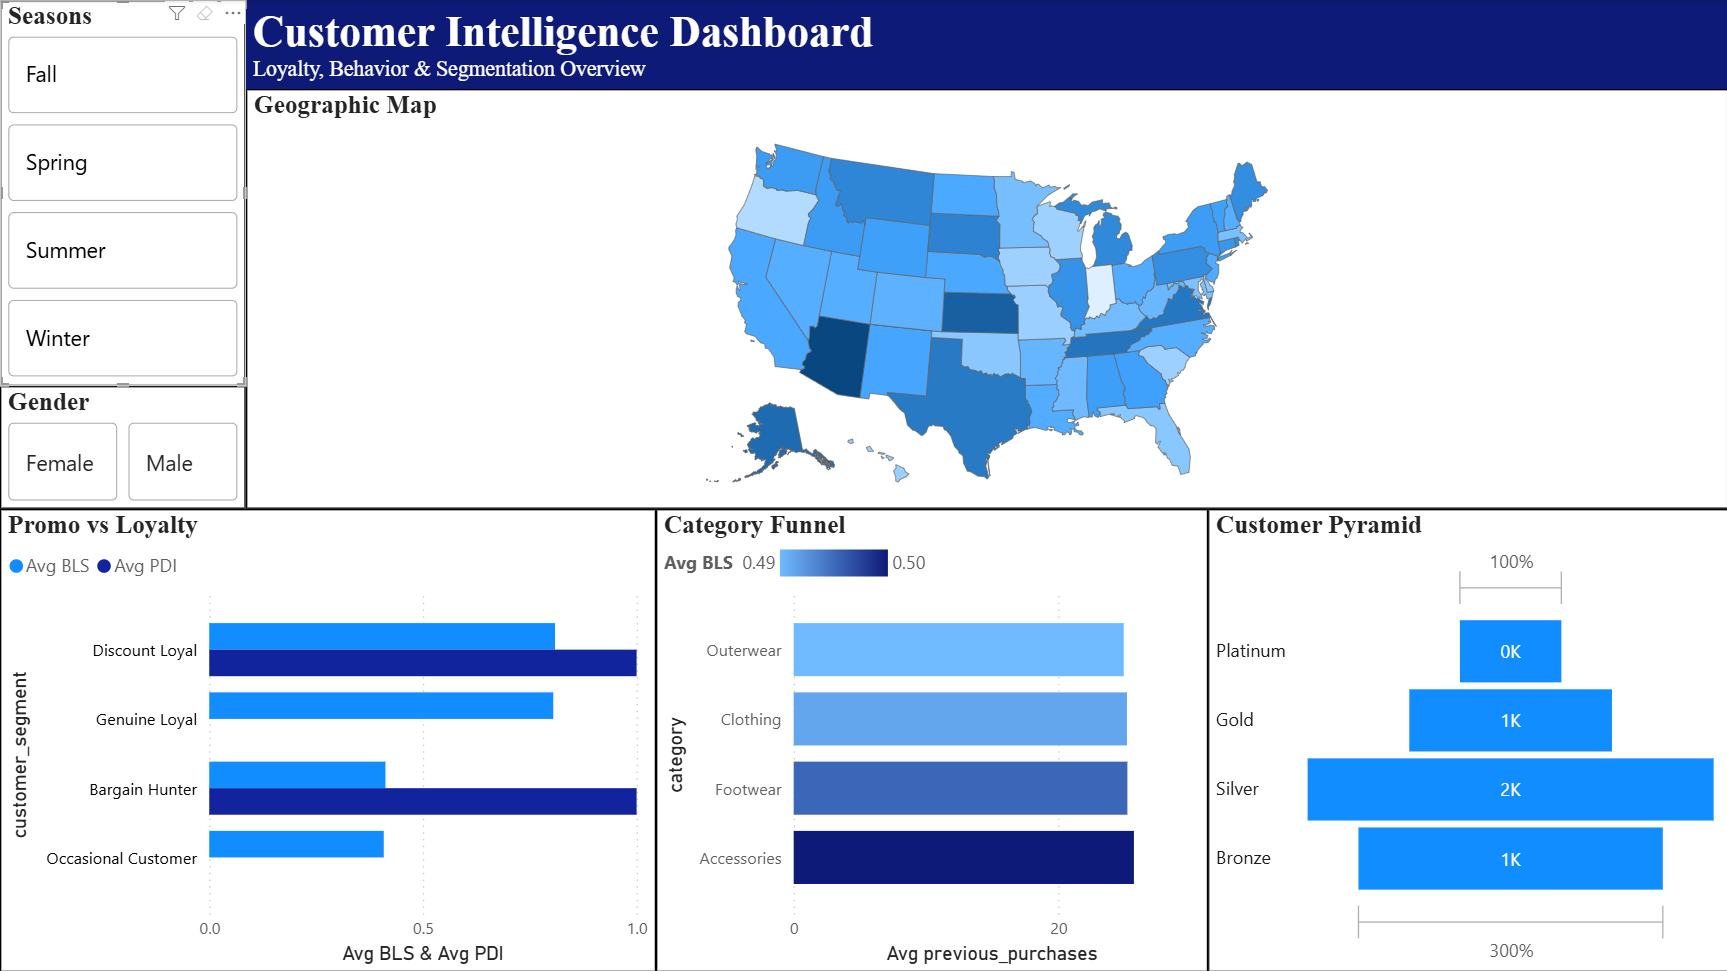

The page's visual inventory and layout, read from the dashboard file:
{"tool":"powerbi","page":{"name":"Page 1","canvas":[1280,720],"ordinal":0},"visuals":[{"type":"funnel","title":"Customer Pyramid","fields":{"Y":["Cleaned_Dataset.Total Customers"],"Category":["Cleaned_Dataset.customer_value_tier"]},"box":[894.4,376.7,385.6,343.3],"z":0},{"type":"clusteredBarChart","title":"Promo vs Loyalty","fields":{"Y":["Cleaned_Dataset.Avg BLS","Cleaned_Dataset.Avg PDI"],"Category":["Cleaned_Dataset.customer_segment"]},"box":[0,376.7,485.6,343.3],"z":1000},{"type":"shapeMap","title":"Geographic Map","fields":{"Value":["Cleaned_Dataset.Genuine Pull Score"],"Category":["Cleaned_Dataset.location"]},"box":[182.2,65.6,1097.8,311.1],"z":2000},{"type":"advancedSlicerVisual","title":"Seasons","fields":{"Values":["Cleaned_Dataset.season"]},"box":[0,0,182.2,285.6],"z":3000},{"type":"advancedSlicerVisual","title":"Gender","fields":{"Values":["Cleaned_Dataset.gender"]},"box":[0,285.6,182.2,91.1],"z":4000},{"type":"clusteredBarChart","title":"Category Funnel","fields":{"Category":["Cleaned_Dataset.category"],"Y":["Cleaned_Dataset.Avg previous_purchases"]},"box":[485.6,376.7,408.9,343.3],"z":5000},{"type":"textbox","box":[182.2,0,1097.8,65.6],"z":6000}]}

Visuals, with their boxes in screenshot pixels (x1, y1, x2, y2), scaled from the page's 1280x720 canvas onto the 1727x971 screenshot:
"Customer Pyramid" funnel: [1207, 508, 1726, 970]
"Promo vs Loyalty" clusteredBarChart: [0, 508, 655, 970]
"Geographic Map" shapeMap: [246, 88, 1726, 508]
"Seasons" advancedSlicerVisual: [0, 0, 246, 385]
"Gender" advancedSlicerVisual: [0, 385, 246, 508]
"Category Funnel" clusteredBarChart: [655, 508, 1207, 970]
textbox: [246, 0, 1726, 88]
